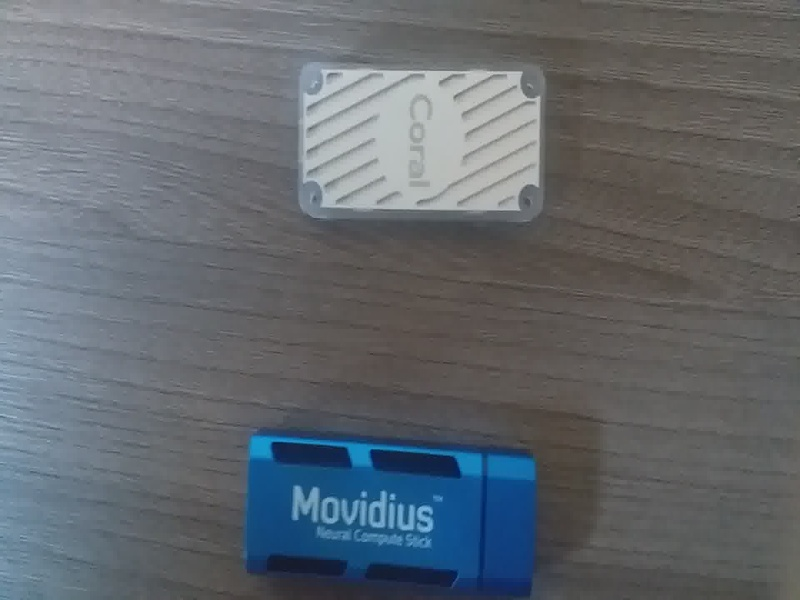coral: (283, 45, 568, 250)
movidius: (238, 420, 540, 600)
